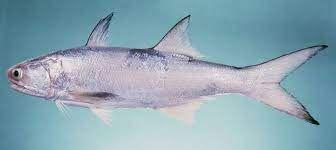Fourfinger Threadfish: (7, 12, 329, 143)
